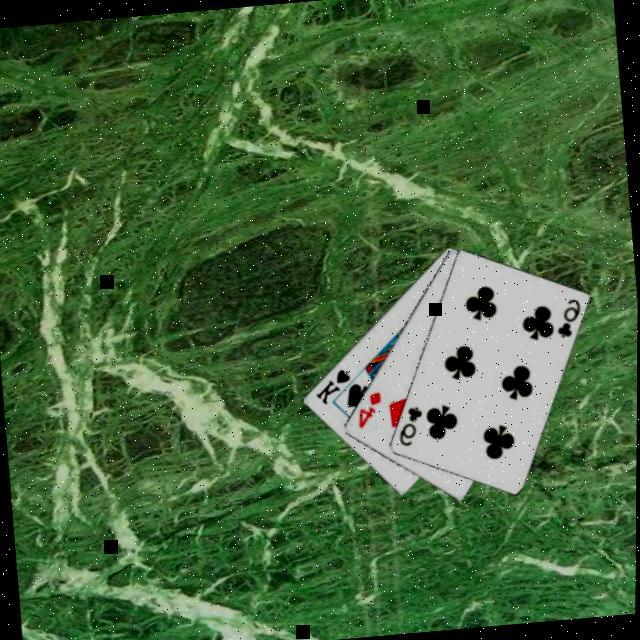4D: (354, 388, 388, 432)
6C: (553, 296, 587, 342), (395, 404, 429, 449)
KS: (312, 365, 357, 409)
